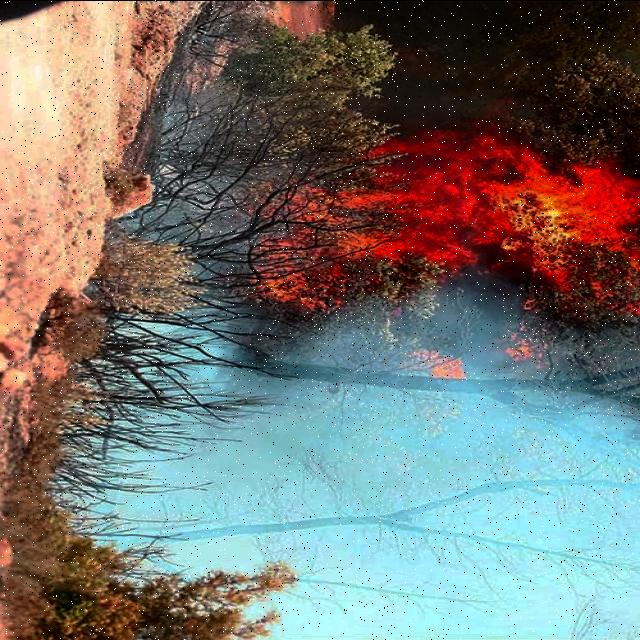api: (277, 143, 640, 276)
asap: (97, 327, 638, 634)
